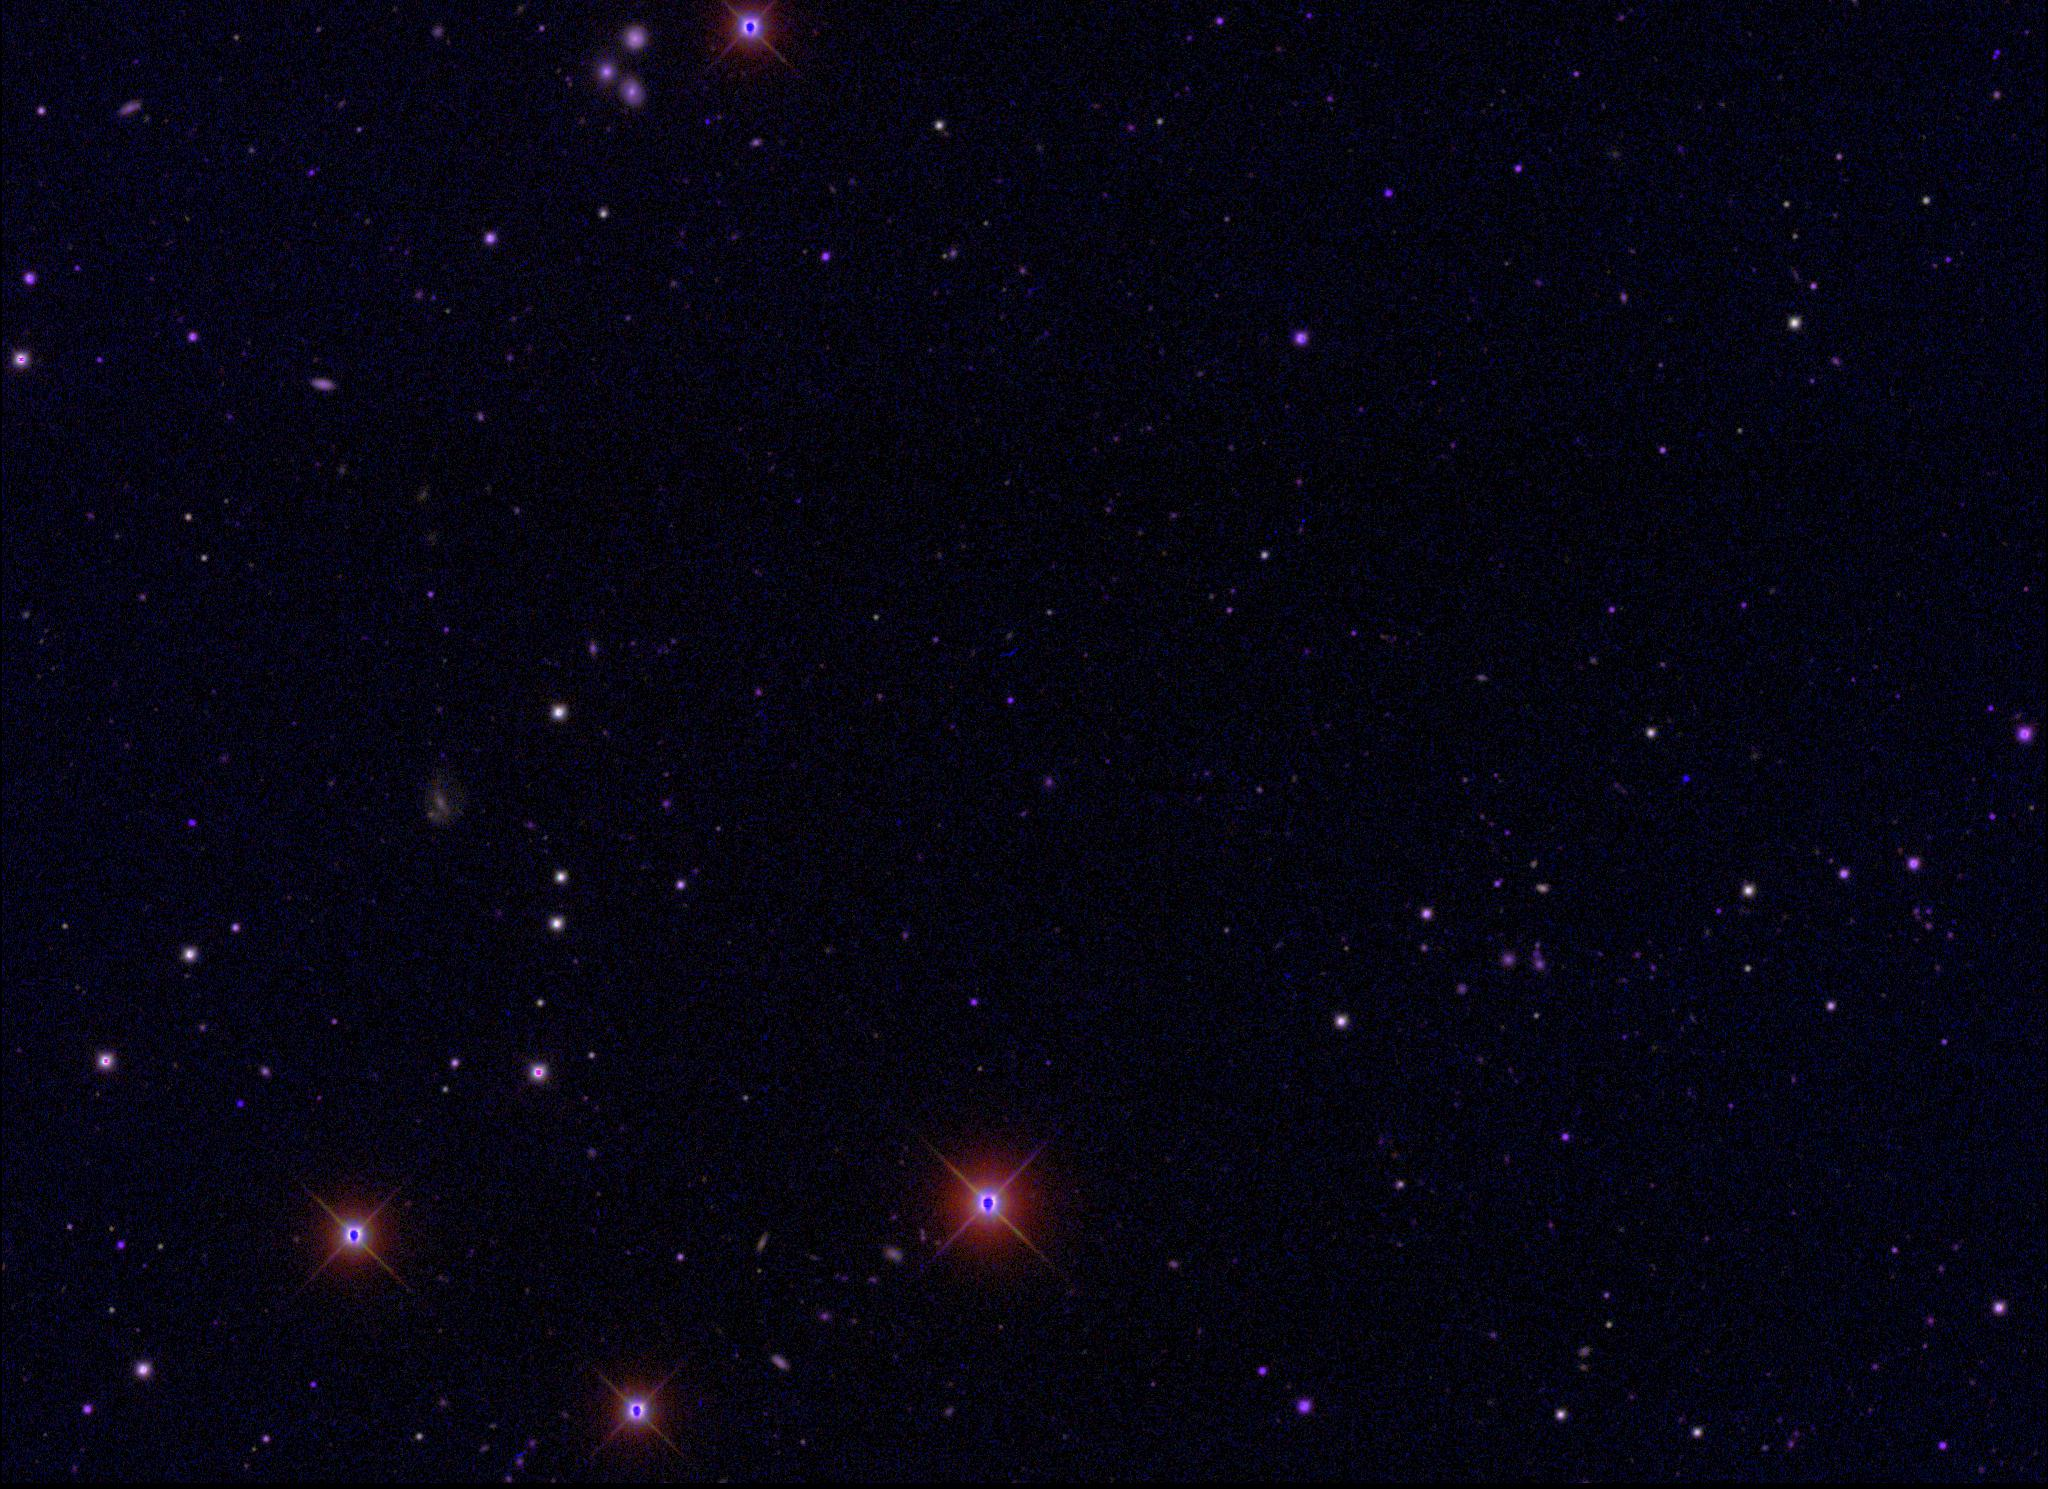L: (1681, 772, 1693, 786)
